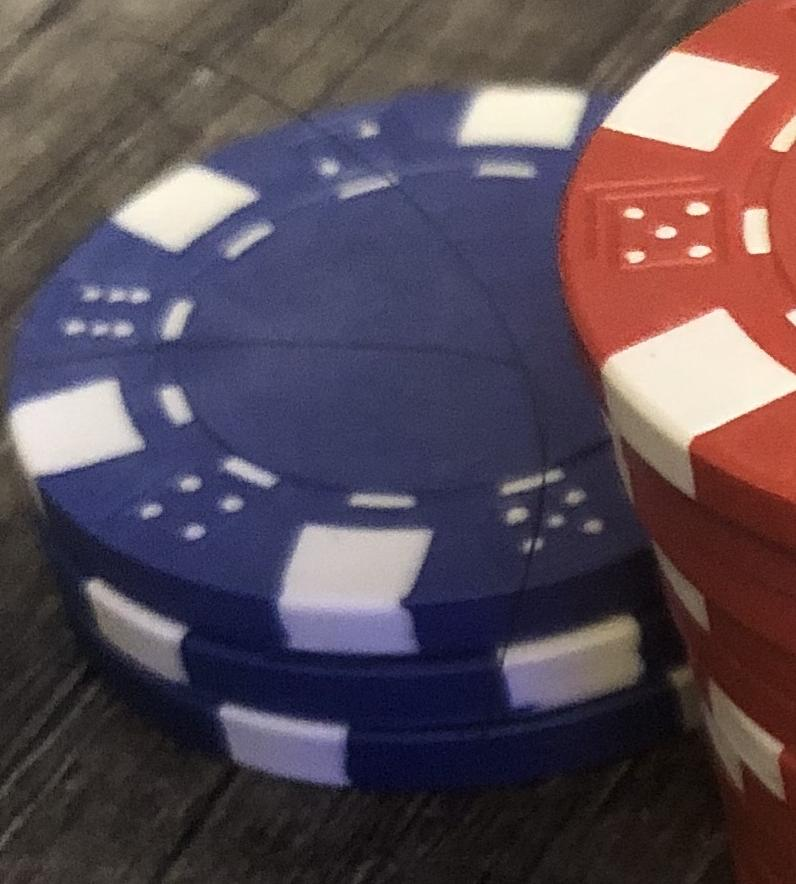Chip: (1, 1, 796, 884)
